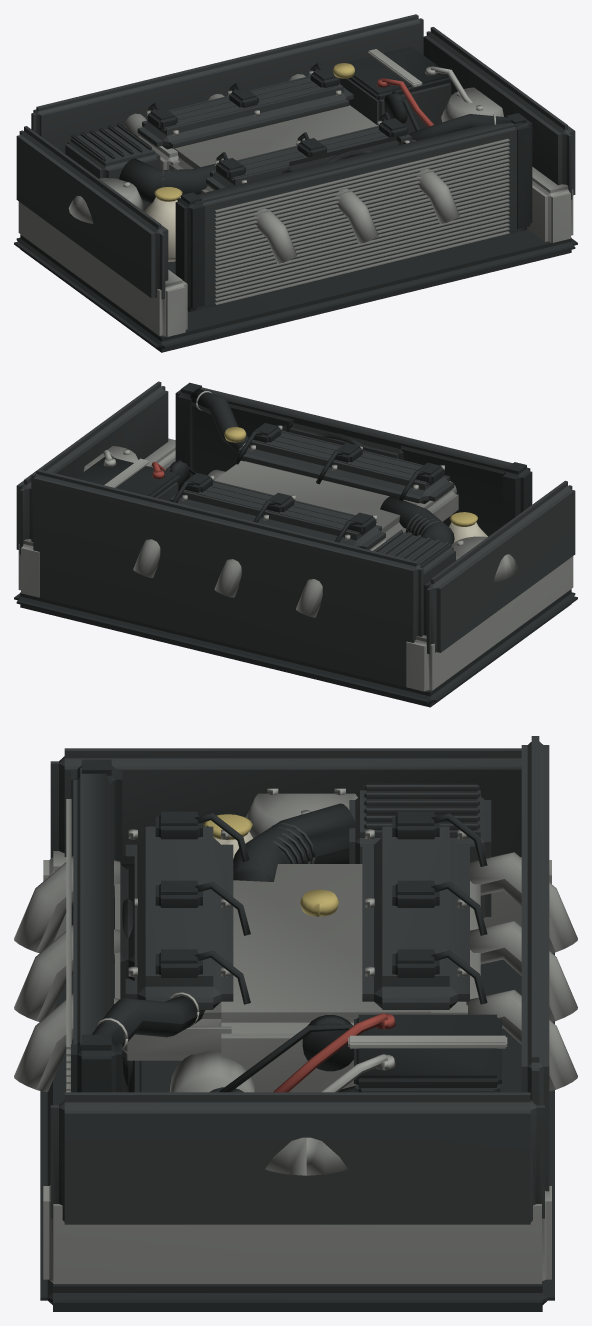
Rendered from engine-boxer.glb.
3 renders of one model, top to bottom at view 1: azimuth 30°, elevation 25°; view 2: azimuth 150°, elevation 25°; view 3: azimuth 270°, elevation 25°, orthographic. The views are drawn at different scales.
Parts seen in each view (by area): view 1: Frame; view 2: Frame; view 3: Frame.
Part boxes in pixels (box(x1,y1,x2,y2)): Frame: box(14, 14, 577, 352); Frame: box(14, 381, 577, 707); Frame: box(14, 736, 577, 1311).
Bounding box in the file's own units: 1.49 × 0.537 × 0.9535.
